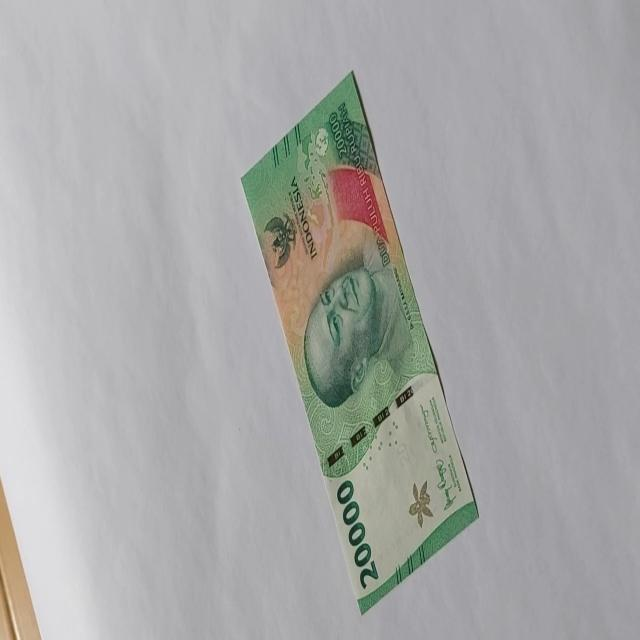dua puluh ribu rupiah: (240, 69, 480, 616)
